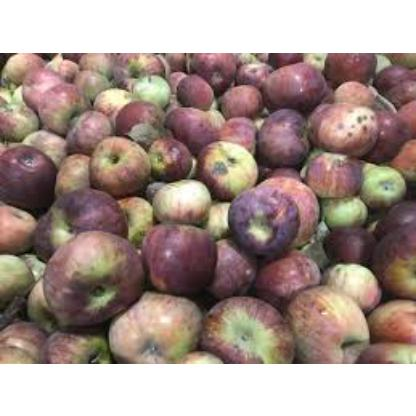apple: (41, 235, 137, 331), (133, 226, 229, 298), (40, 192, 136, 256), (200, 294, 286, 356), (286, 284, 366, 350), (228, 184, 298, 254), (88, 128, 156, 196), (195, 138, 268, 195), (308, 95, 378, 149), (0, 138, 49, 204), (260, 103, 312, 160), (35, 80, 89, 128), (66, 110, 120, 156)
